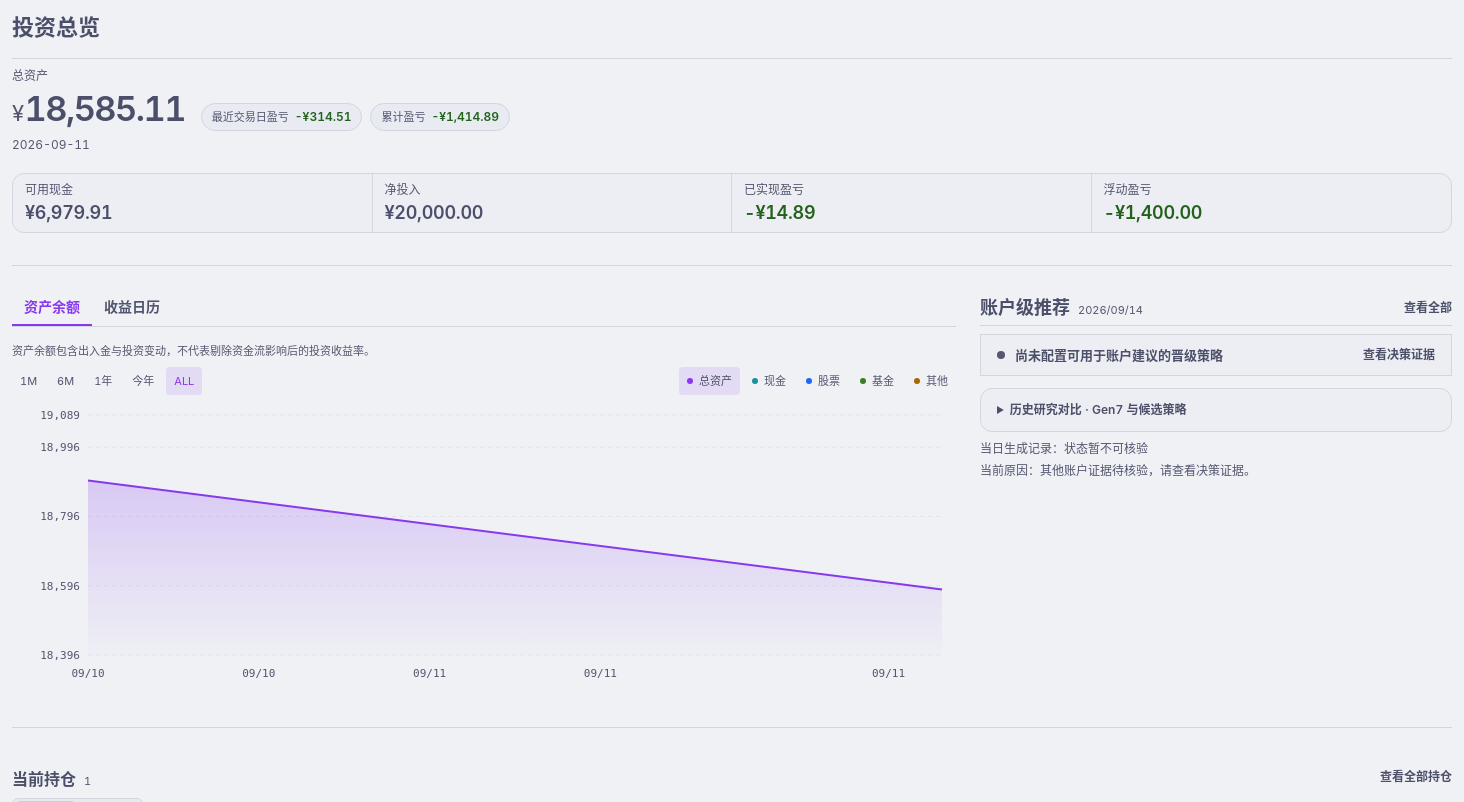
Test: shows saved historical research and separate forward states without account recommendations (zh)
Click the heading "历史研究对比 · Gen7 与候选策略" at (1098, 410), box [1010,402,1186,417]
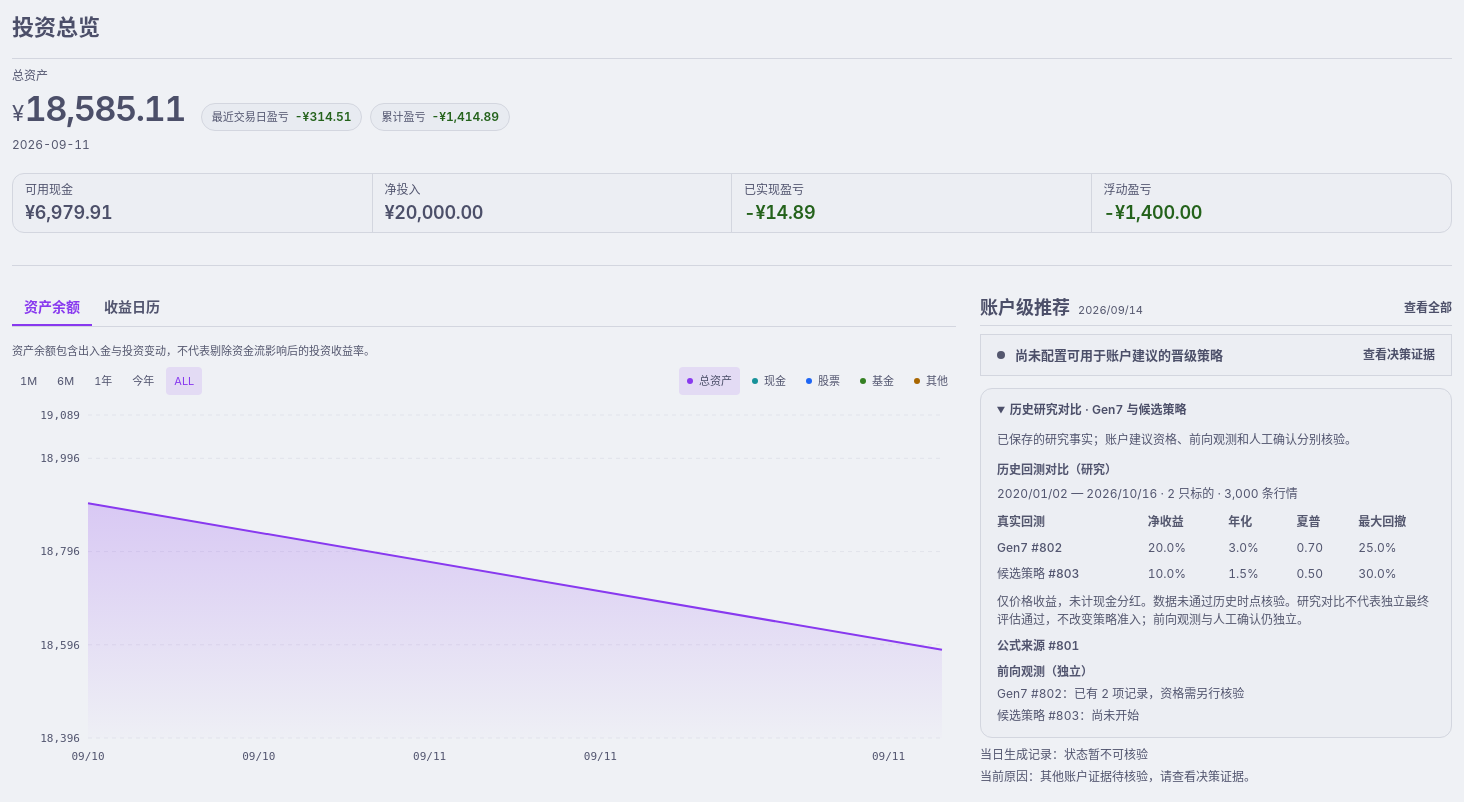
Result: the table is shown at [997,509,1435,587]
Result: the table shows "20.0%" at [1148,540,1186,555]
Result: the table shows "10.0%" at [1148,566,1186,581]
